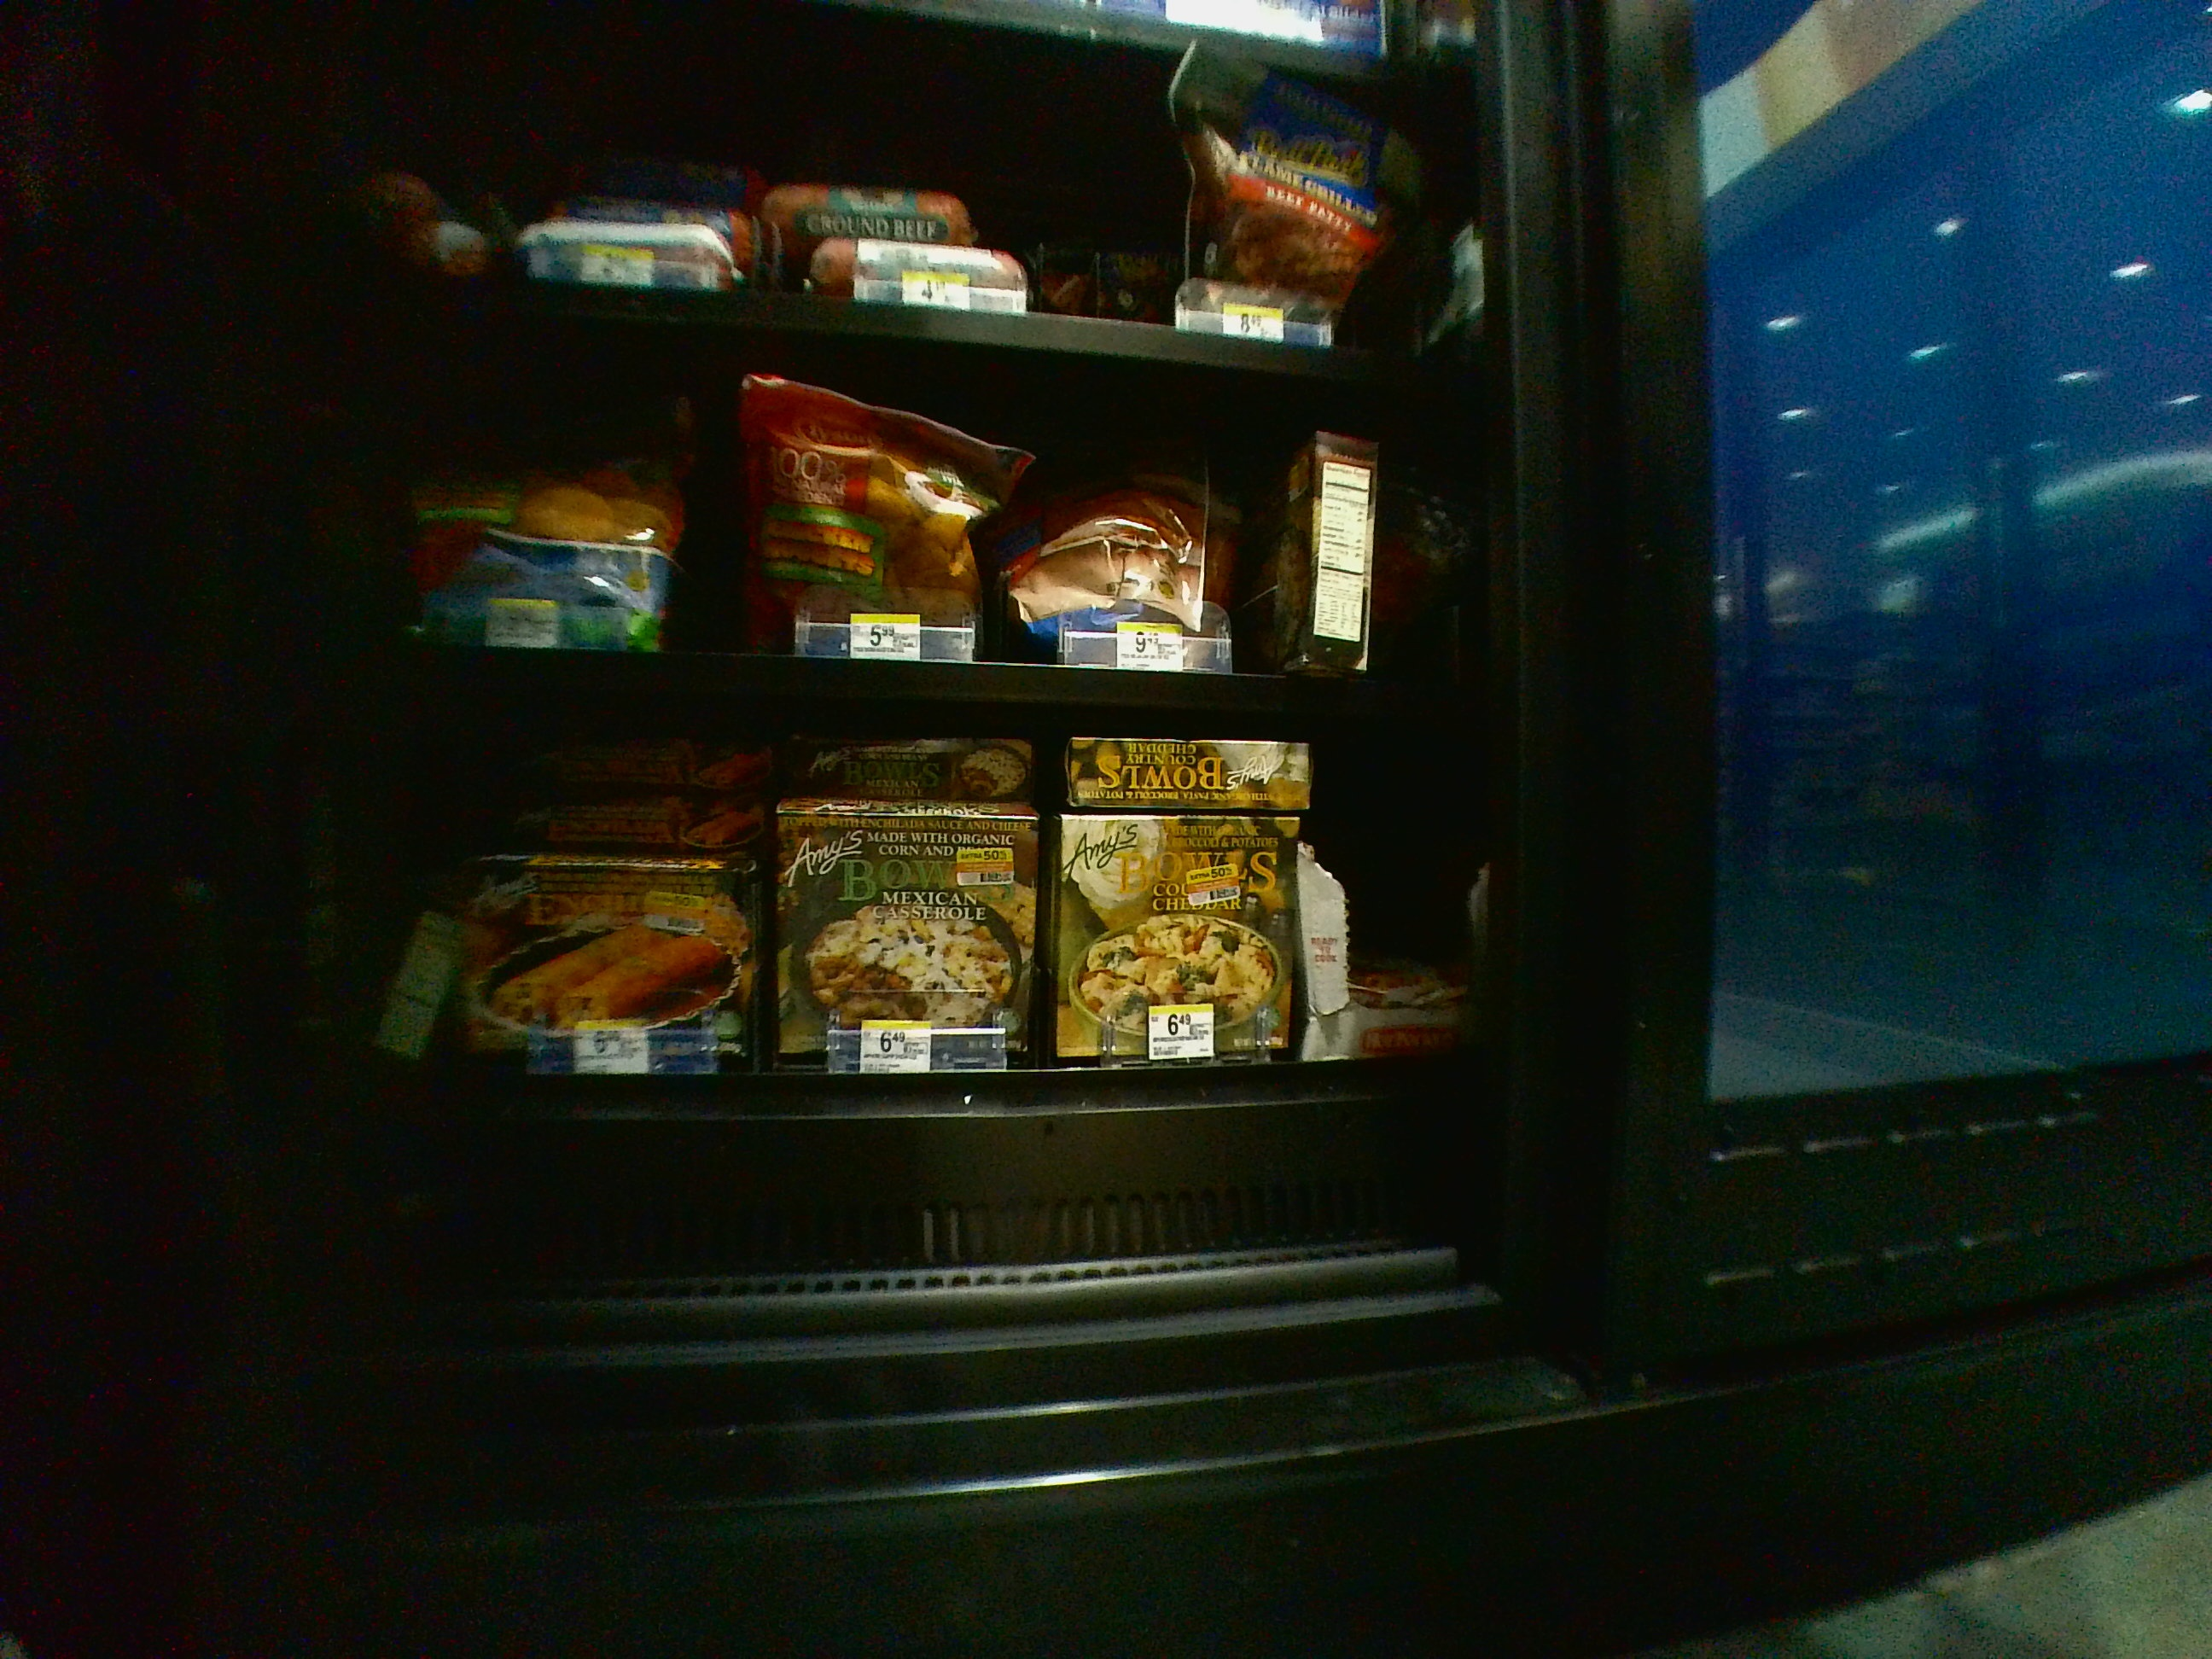shelf: (331, 711, 1475, 1279), (315, 307, 1484, 694)
